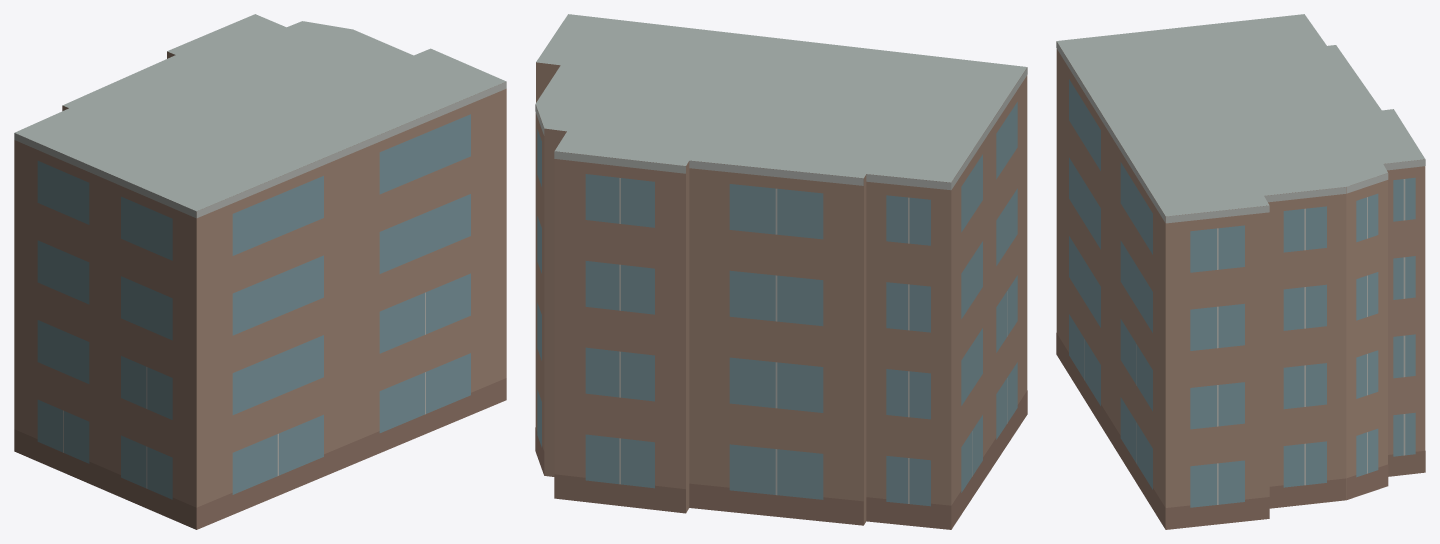
File: survey-upis-32536079.glb
The picture shows the model from 3 angles, left to right: view 1: azimuth 30°, elevation 25°; view 2: azimuth 150°, elevation 25°; view 3: azimuth 270°, elevation 25°; orthographic projection. The views are drawn at different scales.
Parts seen in each view (by area): view 1: survey-upis-32536079.tmp; view 2: survey-upis-32536079.tmp; view 3: survey-upis-32536079.tmp.
Part boxes in pixels (x1,y1,x2,y2): survey-upis-32536079.tmp: (14, 14, 506, 529); survey-upis-32536079.tmp: (535, 14, 1027, 529); survey-upis-32536079.tmp: (1056, 14, 1425, 529).
Size of the model in its own units: 15.26 by 11 by 11.75.
